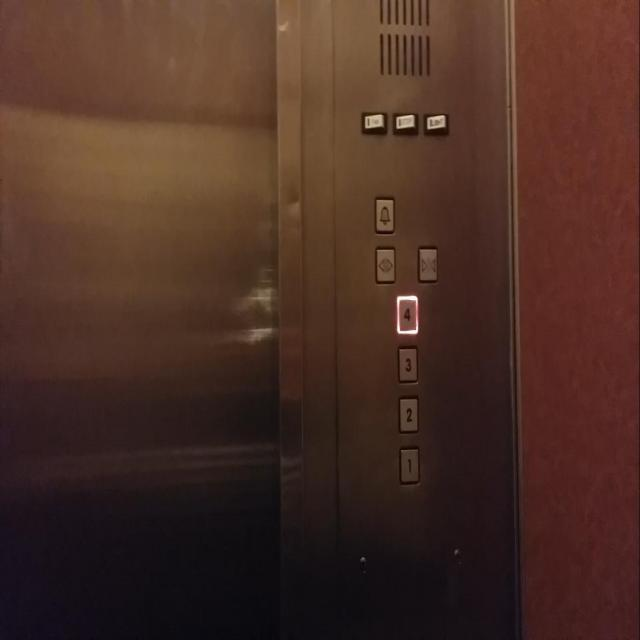1: (398, 442, 420, 486)
2: (398, 394, 420, 434)
3: (396, 343, 419, 385)
4: (396, 292, 418, 334)
alarm: (372, 193, 397, 236)
close: (416, 243, 439, 285)
open: (374, 242, 396, 284)
switch: (422, 107, 451, 135), (360, 107, 388, 135), (390, 107, 418, 135)
